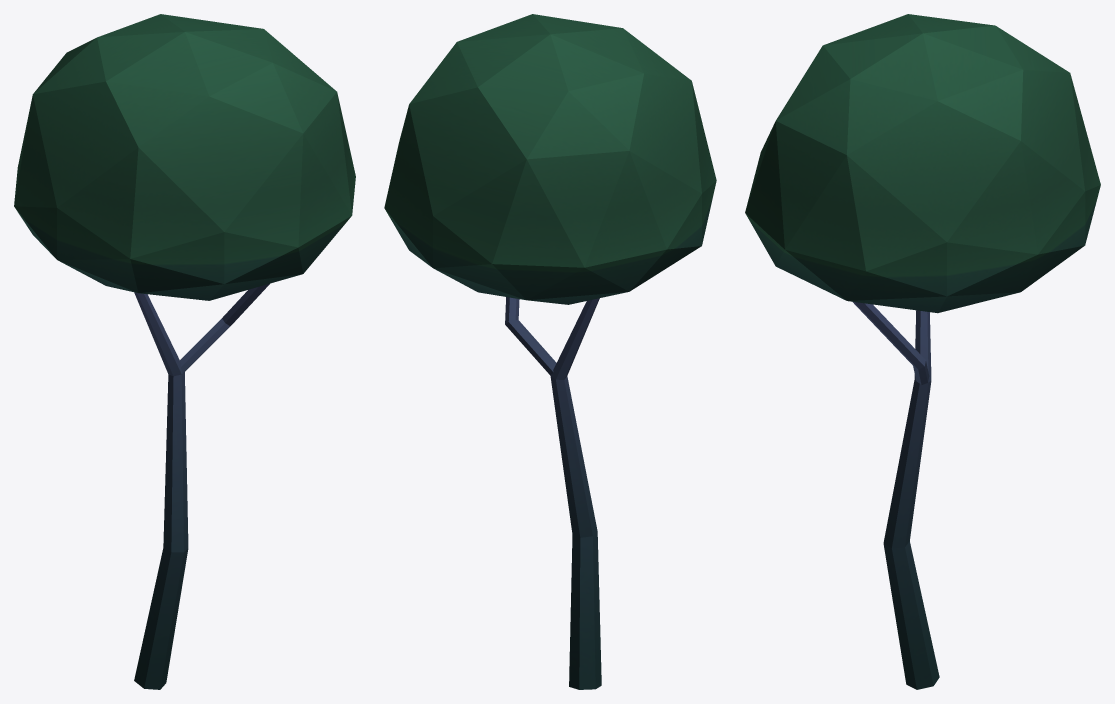
Rendered from treeRoundTop01.glb.
The picture shows the model from 3 angles, left to right: view 1: azimuth 30°, elevation 25°; view 2: azimuth 150°, elevation 25°; view 3: azimuth 270°, elevation 25°; orthographic projection. The views are drawn at different scales.
Parts seen in each view (by area): view 1: geometry_0; view 2: geometry_0; view 3: geometry_0.
Part boxes in pixels (x1,y1,x2,y2): geometry_0: [14, 14, 355, 689]; geometry_0: [384, 14, 716, 689]; geometry_0: [745, 14, 1100, 689].
Size of the model in its own units: 0.4663 by 1 by 0.483.
Materials: 1 (1 with a texture image).
